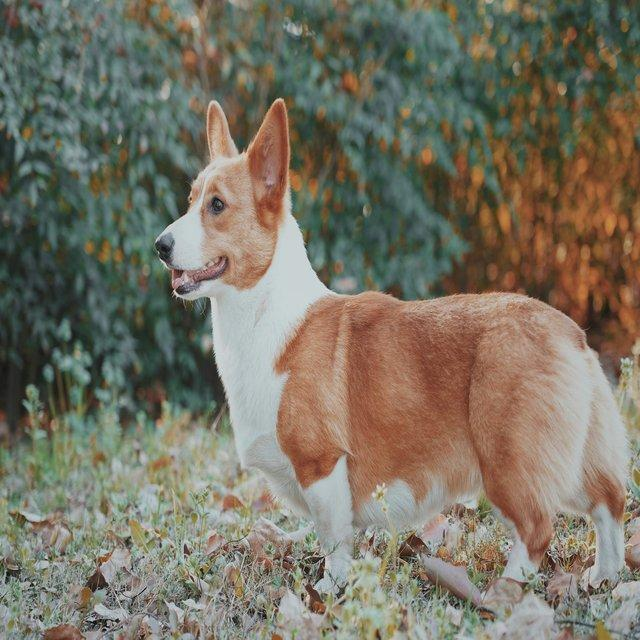corgi: (153, 96, 632, 615)
